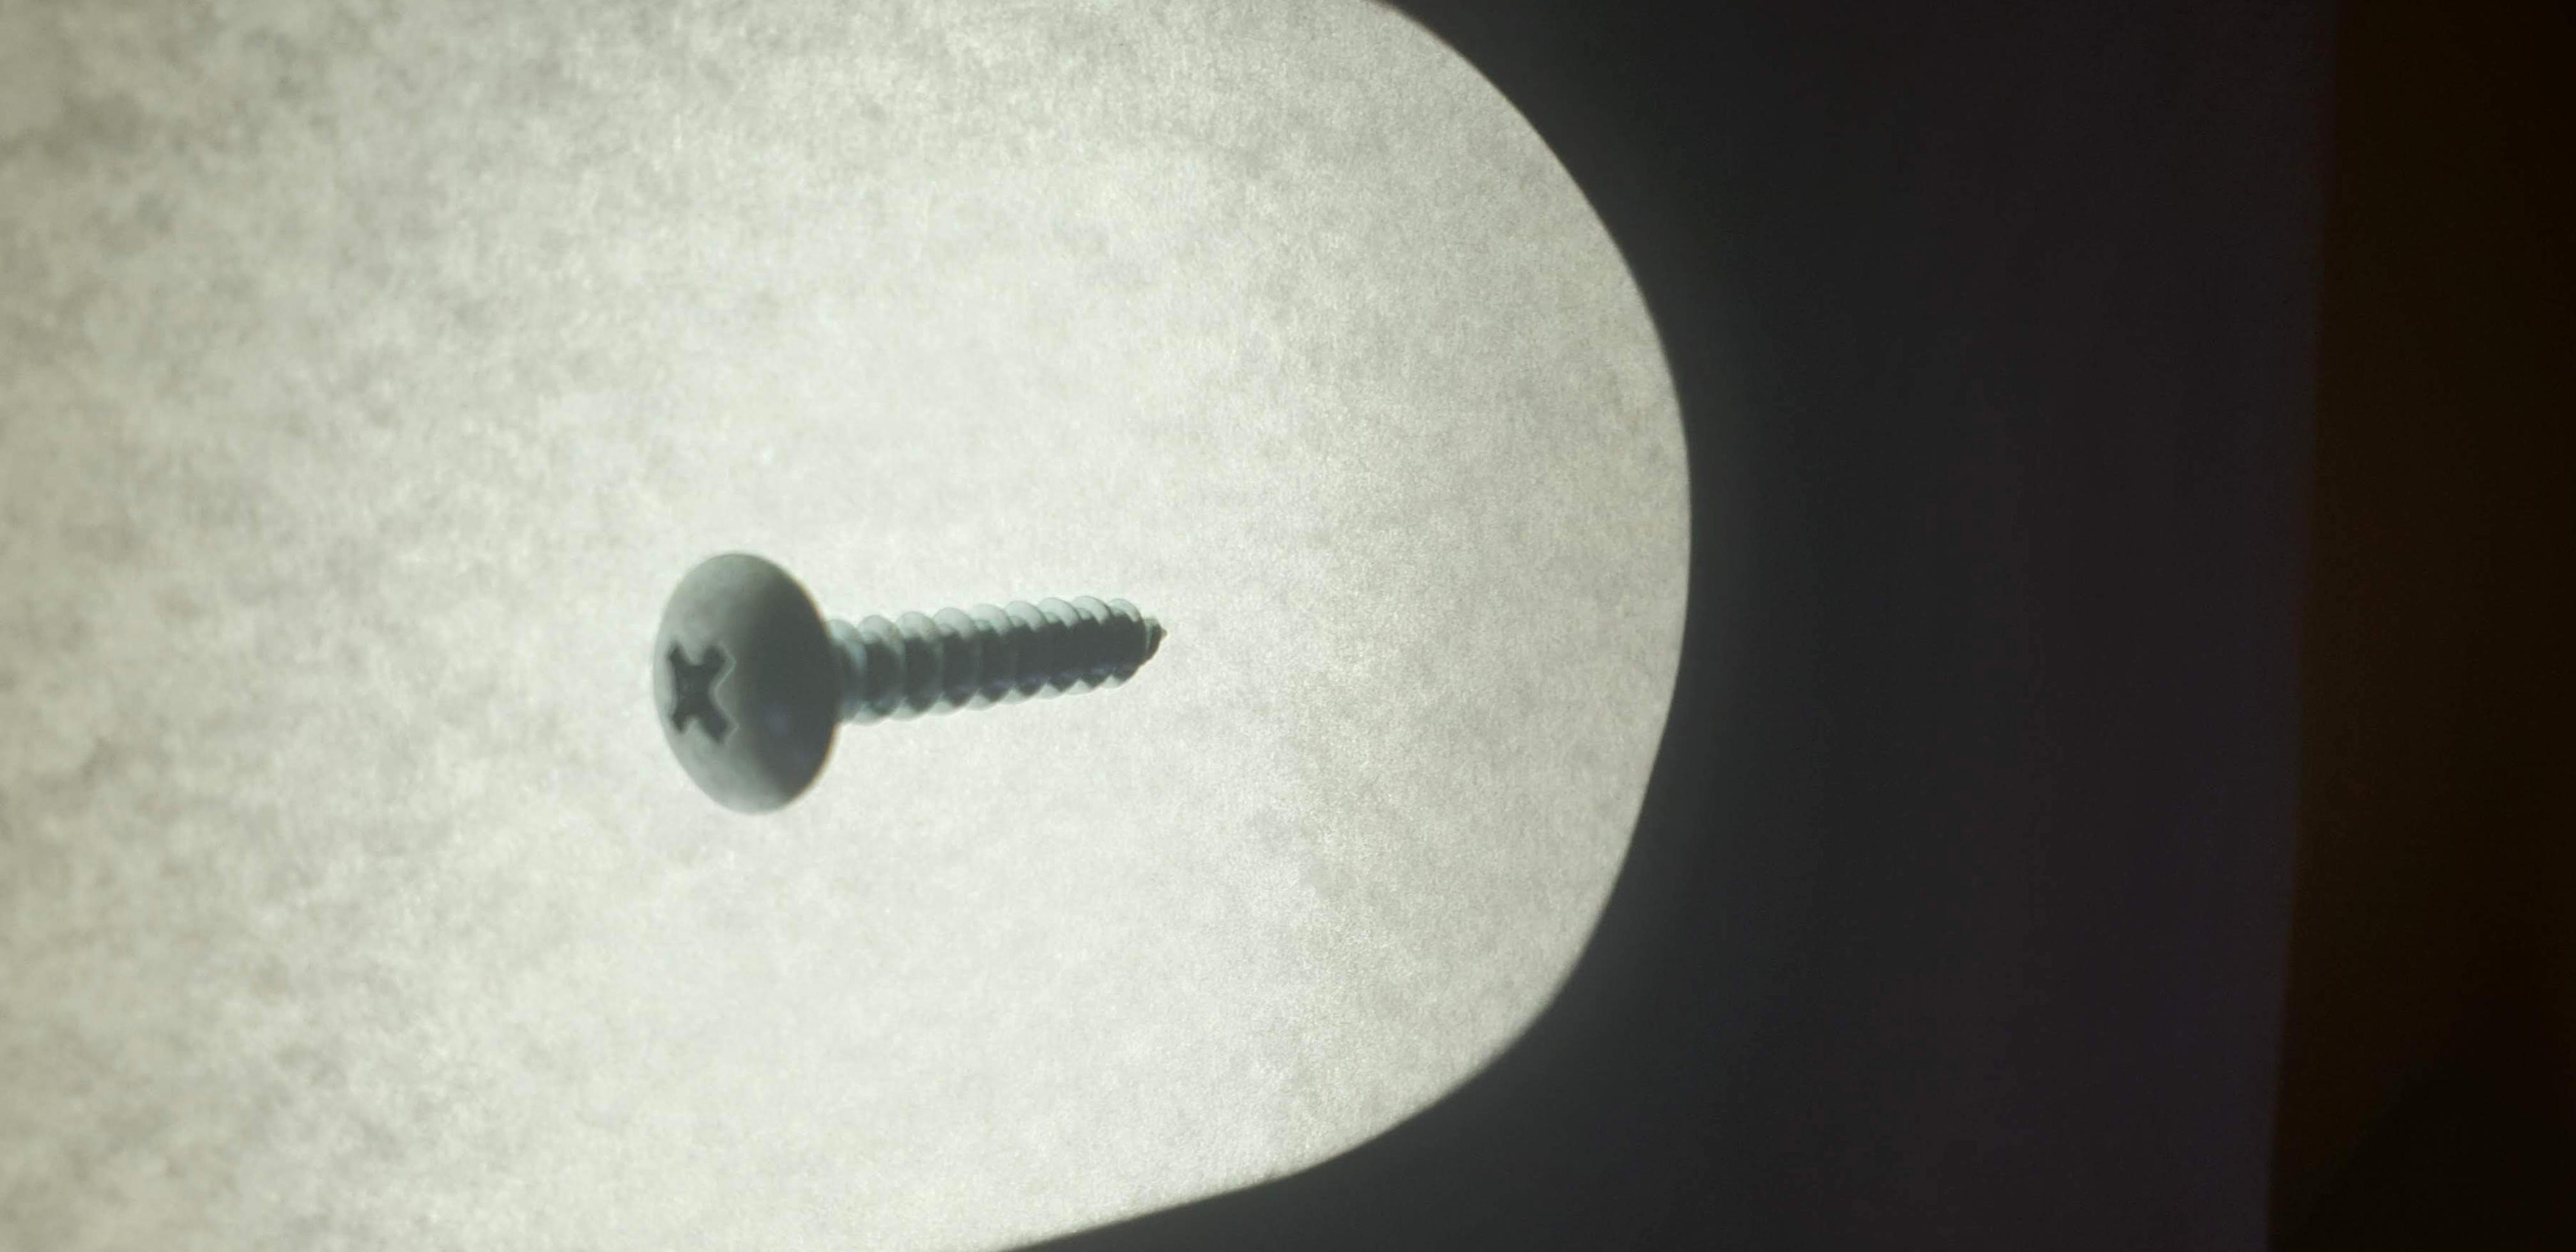S002: (616, 521, 1226, 859)
